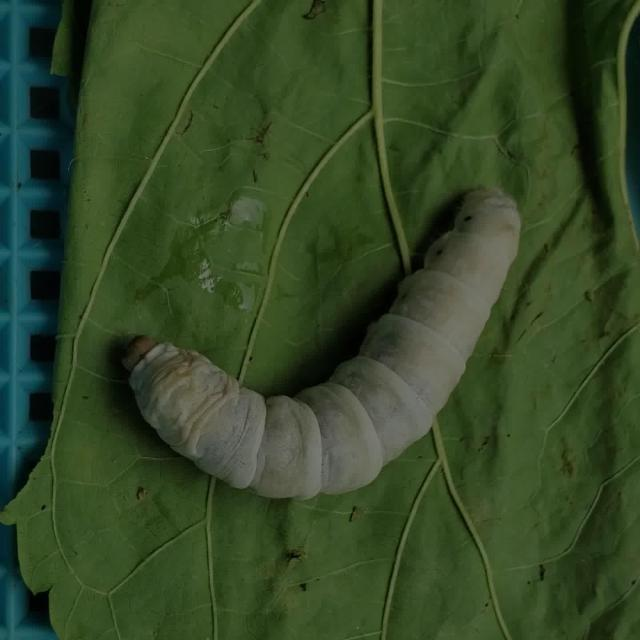Grasserie: (94, 146, 538, 541)
